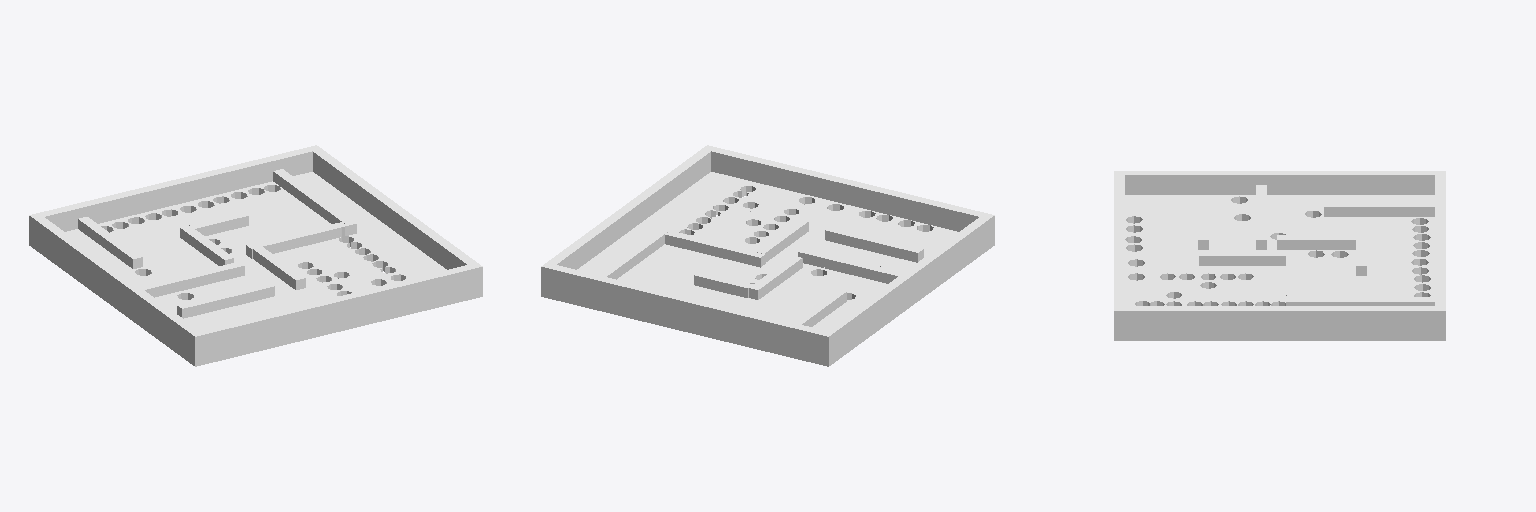
File: boxwithhole.obj
The picture shows the model from 3 angles: view 1: azimuth 30°, elevation 25°; view 2: azimuth 150°, elevation 25°; view 3: azimuth 270°, elevation 25°; orthographic projection.
Visible parts, largest first — view 1: baseplate2; view 2: baseplate2; view 3: baseplate2.
Boxes of the visible parts, box(x1,y1,x2,y2) form: baseplate2: box(29, 145, 482, 366); baseplate2: box(541, 145, 994, 366); baseplate2: box(1114, 171, 1445, 340).
Bounding box in the file's own units: 30 × 3 × 30.